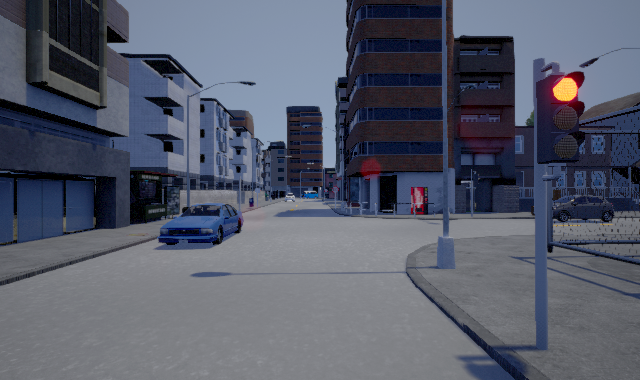traffic_light: (536, 61, 585, 181)
traffic_sign: (332, 186, 339, 193)
vehicle: (157, 203, 244, 245), (553, 195, 614, 222)
